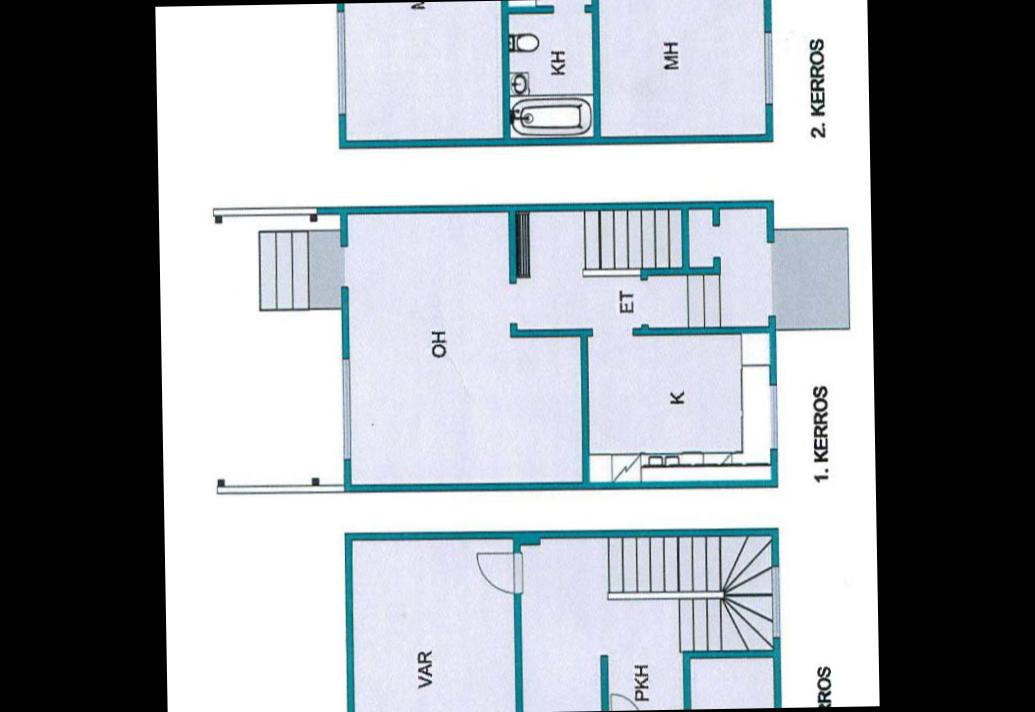door: (474, 544, 524, 600), (608, 686, 646, 710)
window: (332, 4, 352, 122), (338, 350, 356, 465), (766, 558, 788, 644), (758, 22, 778, 109), (765, 374, 781, 454)
